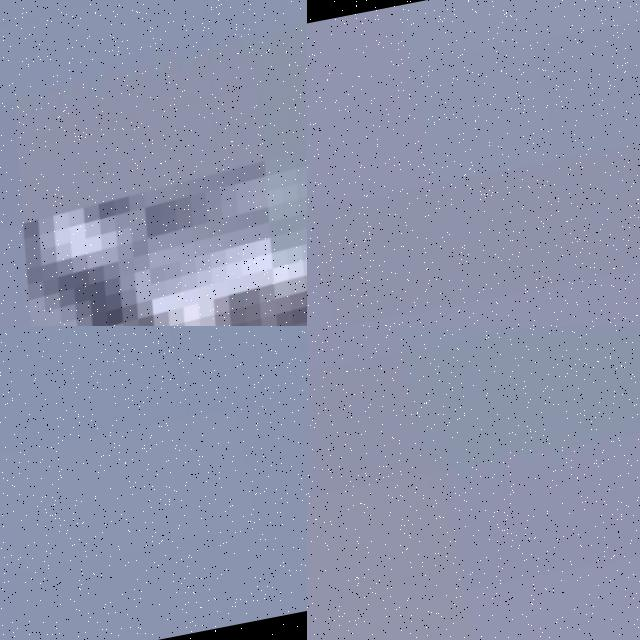drone: (0, 0, 307, 326)
